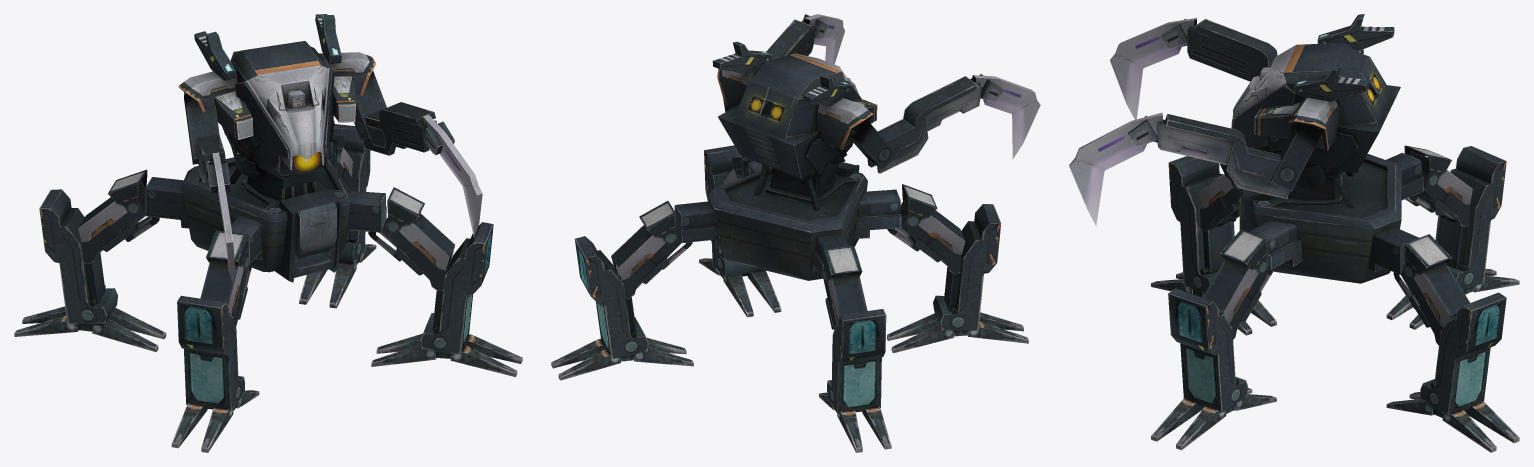
3 views of the same model, side by side, from view 1: azimuth 30°, elevation 25°; view 2: azimuth 150°, elevation 25°; view 3: azimuth 270°, elevation 25° (orthographic). The views are drawn at different scales.
Parts seen in each view (by area): view 1: 20_10; view 2: 20_10; view 3: 20_10.
Part boxes in pixels (x1,y1,x2,y2): 20_10: (14, 14, 522, 452); 20_10: (551, 14, 1040, 452); 20_10: (1069, 14, 1519, 452).
Size of the model in its own units: 301 by 254 by 318.
